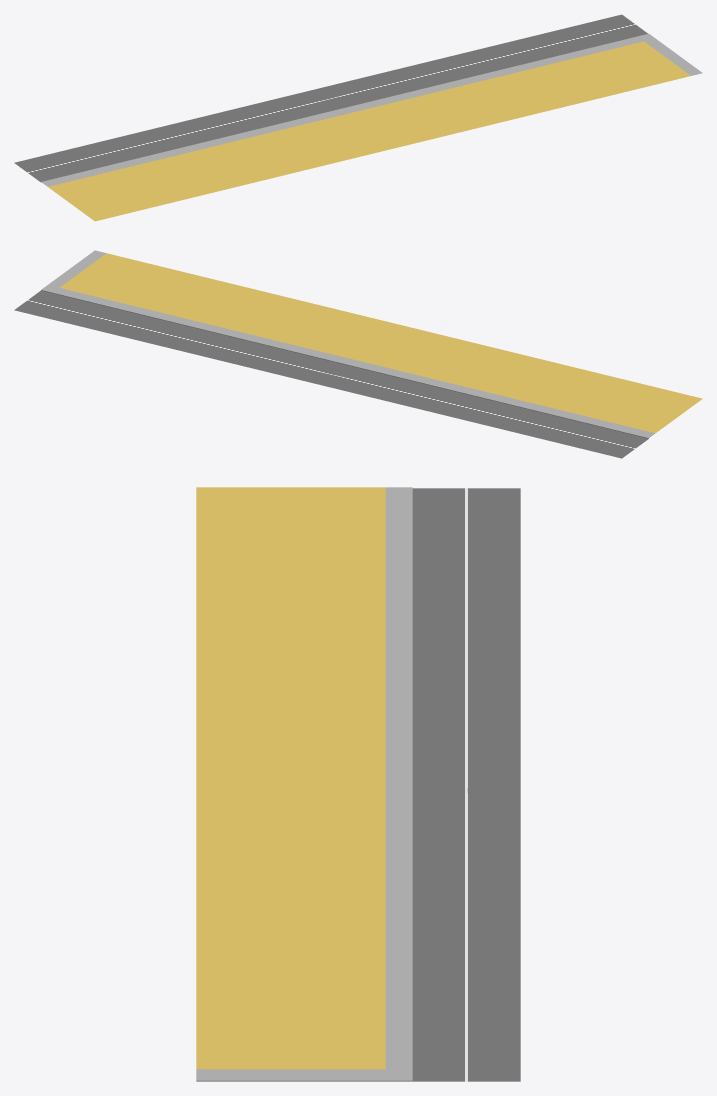
File: promenade.glb
3 views of the same model, one above another, from view 1: azimuth 30°, elevation 25°; view 2: azimuth 150°, elevation 25°; view 3: azimuth 270°, elevation 25° (orthographic). The views are drawn at different scales.
Visible parts, largest first — view 1: Plane, Road; view 2: Plane, Road; view 3: Plane, Road.
Boxes of the visible parts, <box> form: Plane: <box>41,33,702,221</box>; Road: <box>14,14,647,182</box>; Plane: <box>41,250,702,438</box>; Road: <box>14,290,648,458</box>; Plane: <box>196,487,412,1081</box>; Road: <box>412,488,520,1081</box>.
Size of what is drawn, in the model's own units: 104 by 0.1 by 24.
3 materials, 1 textured.
